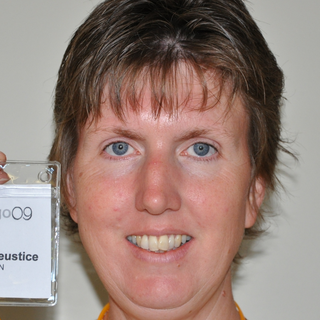eye: (178, 138, 224, 164), (99, 138, 144, 163)
